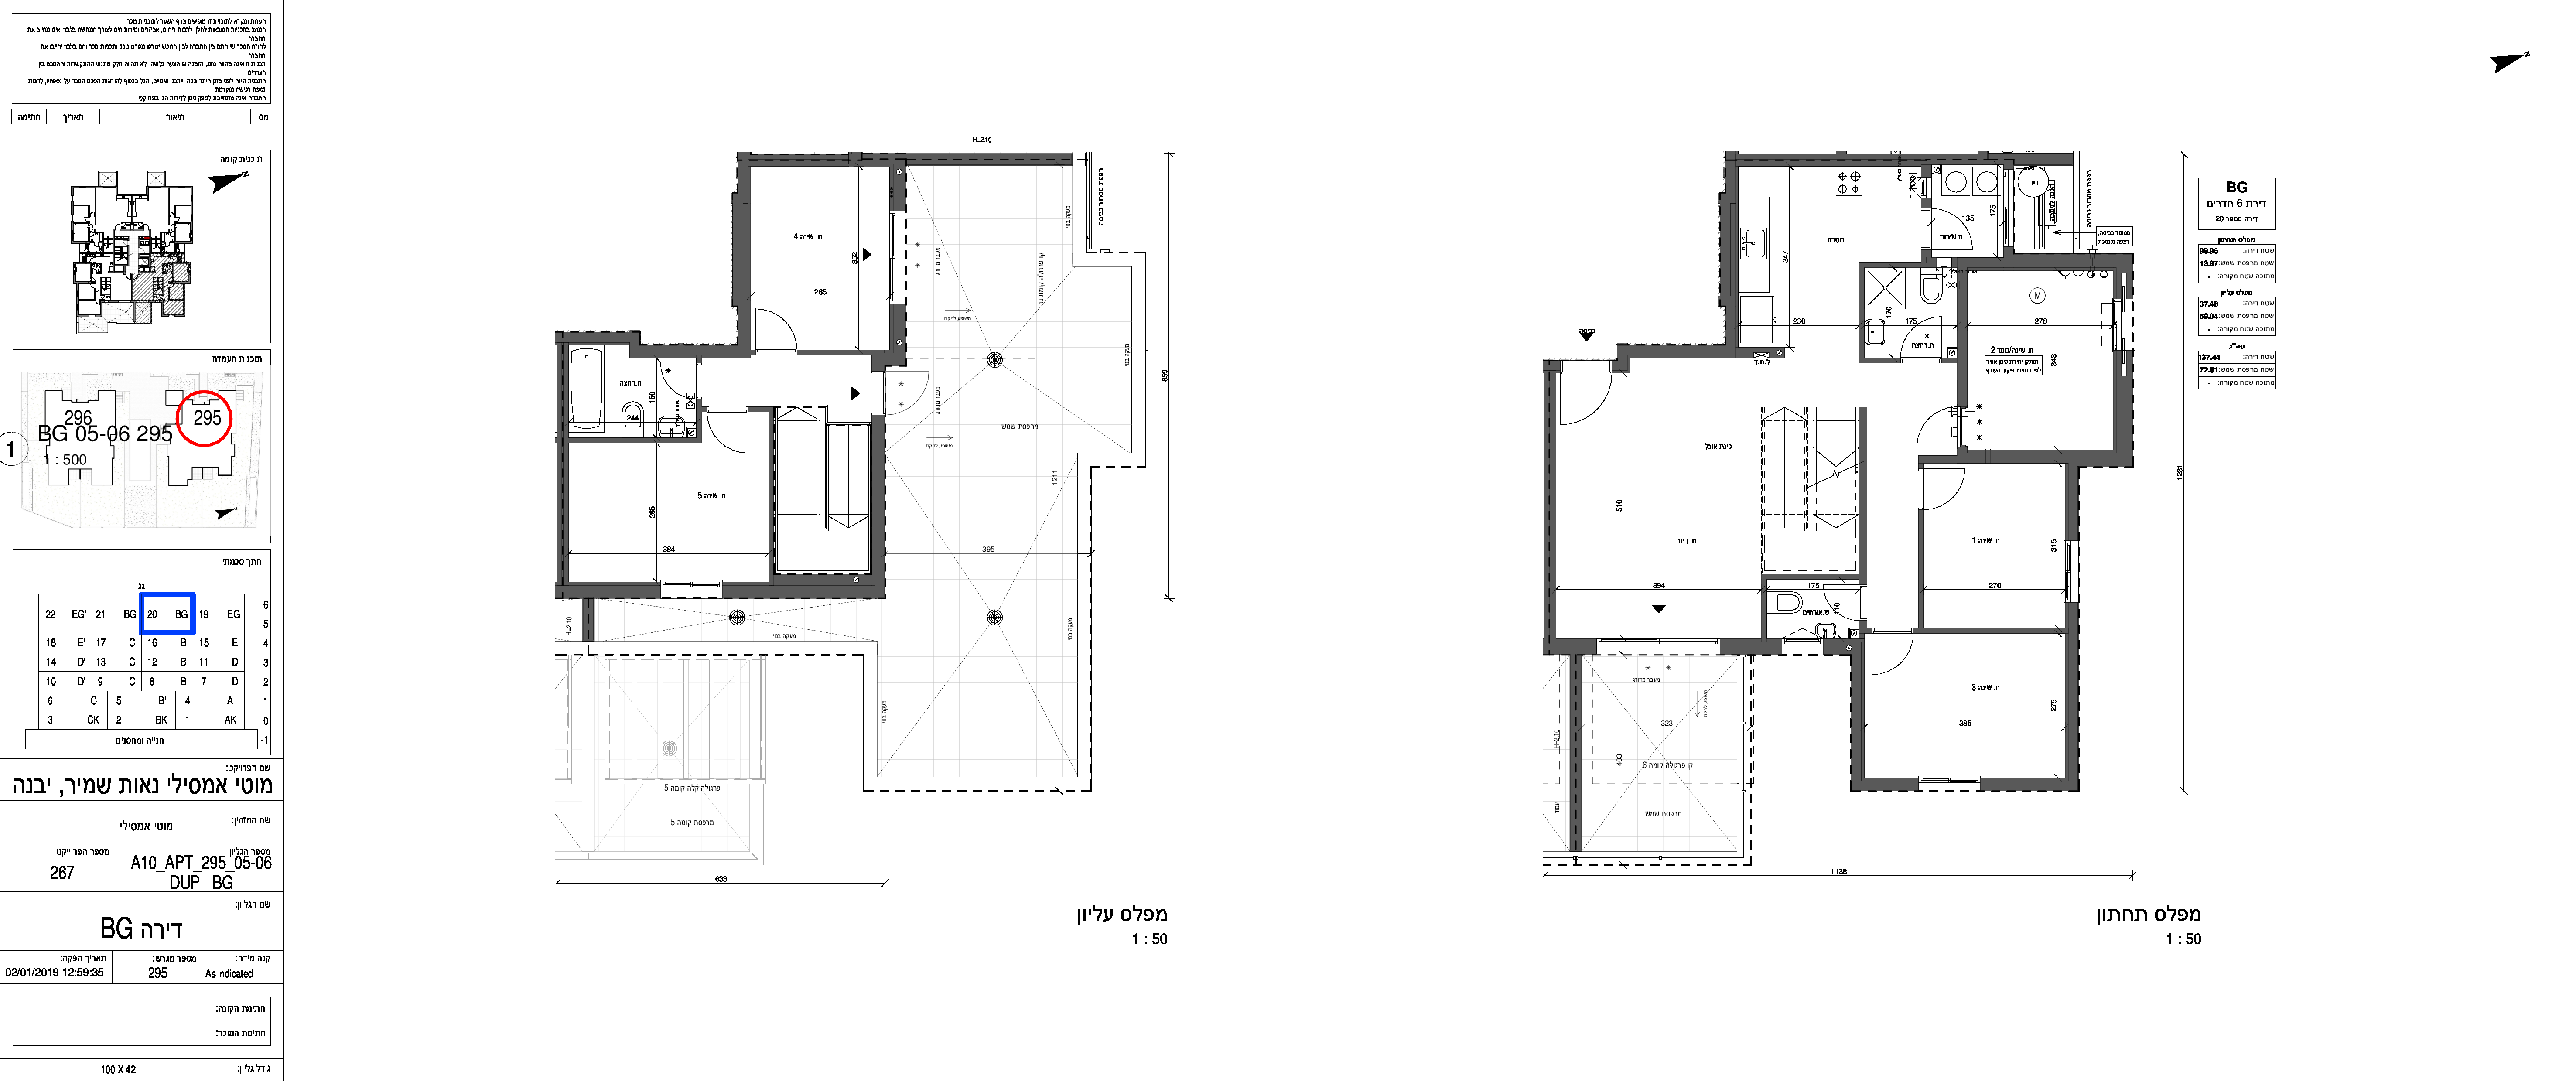door: (1559, 374, 1610, 435), (1927, 465, 1980, 512), (1897, 402, 1948, 450), (1937, 205, 1980, 254), (705, 419, 756, 460), (1868, 639, 1920, 678), (754, 305, 802, 346), (1897, 315, 1948, 351), (659, 361, 693, 402)
md: (457, 97, 1229, 993), (1403, 71, 2152, 954)
rd: (11, 18, 340, 1080), (2172, 135, 2387, 869)
wall: (726, 588, 877, 596), (876, 417, 882, 596), (1853, 645, 1861, 786), (1860, 407, 1866, 583), (733, 197, 743, 305), (1958, 273, 1966, 401), (2118, 378, 2129, 465), (631, 346, 747, 355), (1620, 346, 1733, 355), (2070, 604, 2075, 788), (565, 586, 654, 596), (2004, 256, 2091, 266), (1722, 195, 1728, 300), (568, 438, 700, 443), (1919, 512, 1924, 630), (567, 333, 637, 342), (769, 409, 772, 585), (1985, 782, 2067, 788), (2016, 154, 2068, 164), (1916, 629, 2054, 632), (1855, 782, 1916, 788), (1994, 455, 2114, 458), (1958, 258, 1998, 266), (1761, 591, 1766, 642), (1761, 575, 1837, 578), (802, 351, 864, 355), (1894, 263, 1934, 268), (1860, 263, 1863, 317), (1860, 358, 1893, 363), (1861, 263, 1889, 268), (1860, 327, 1863, 361)
window: (1595, 632, 1722, 650), (881, 209, 899, 305), (1916, 768, 1981, 790), (2060, 539, 2075, 604), (659, 576, 723, 591), (2106, 297, 2118, 355), (1781, 635, 1824, 647)
